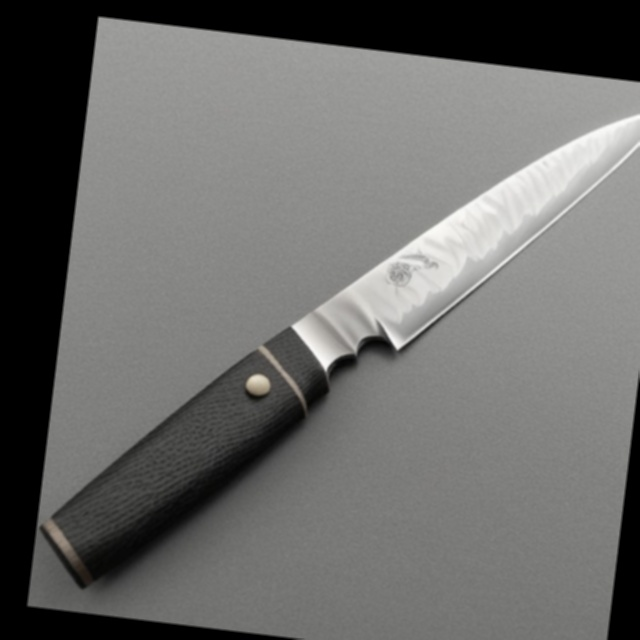Sharp-Object: (31, 31, 640, 640)
